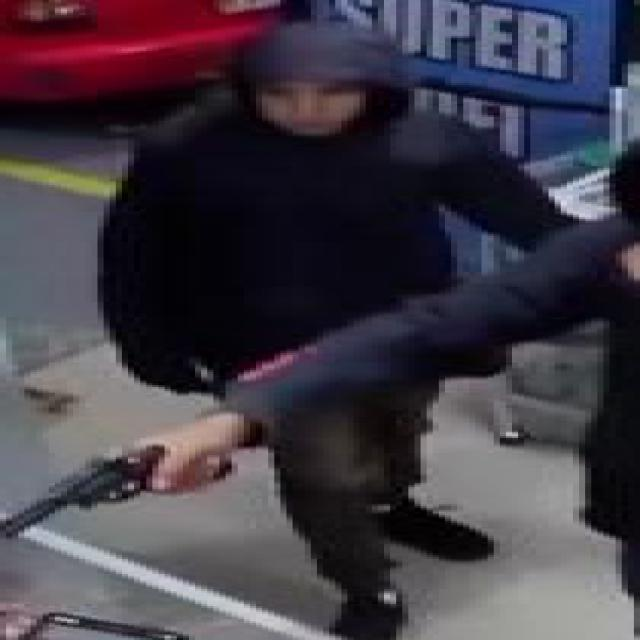gun: (0, 434, 232, 540)
